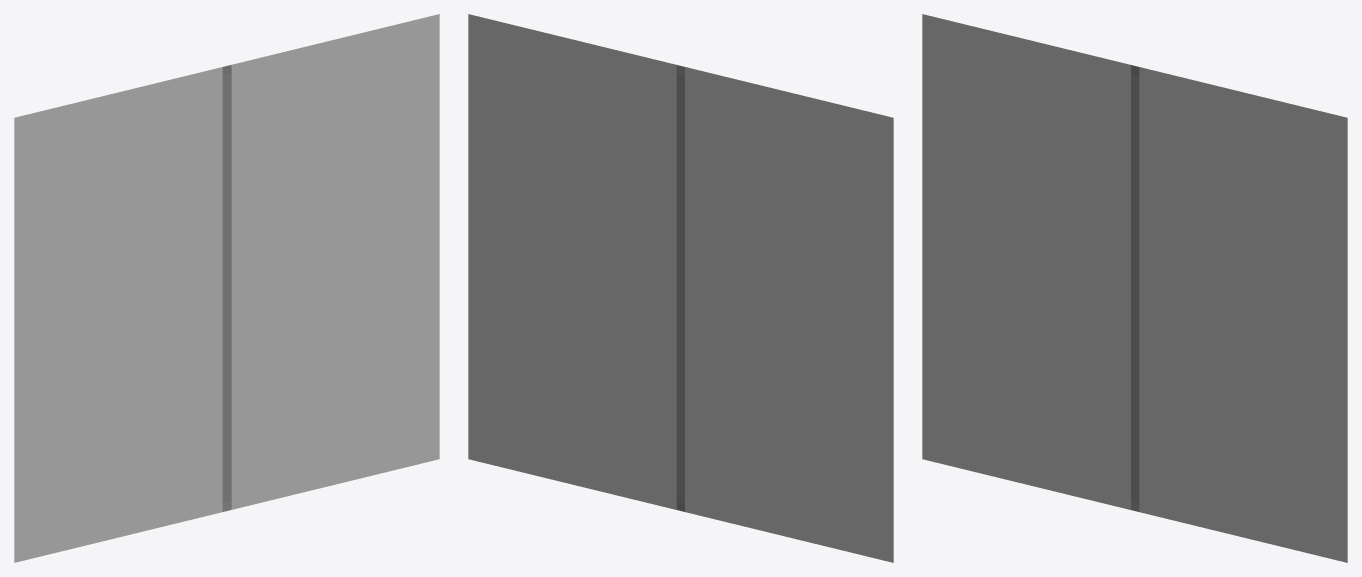
The model's file is Ext-Concrete.fbx.
3 views of the same model, side by side, from view 1: azimuth 30°, elevation 25°; view 2: azimuth 150°, elevation 25°; view 3: azimuth 330°, elevation 25° (orthographic).
Parts seen in each view (by area): view 1: Ext-Concrete; view 2: Ext-Concrete; view 3: Ext-Concrete.
Boxes of the visible parts, x1,y1,x2,y2 form: Ext-Concrete: [14, 14, 439, 562]; Ext-Concrete: [468, 14, 893, 562]; Ext-Concrete: [922, 14, 1347, 562].
Bounding box in the file's own units: 200 × 200 × 0.2001.
